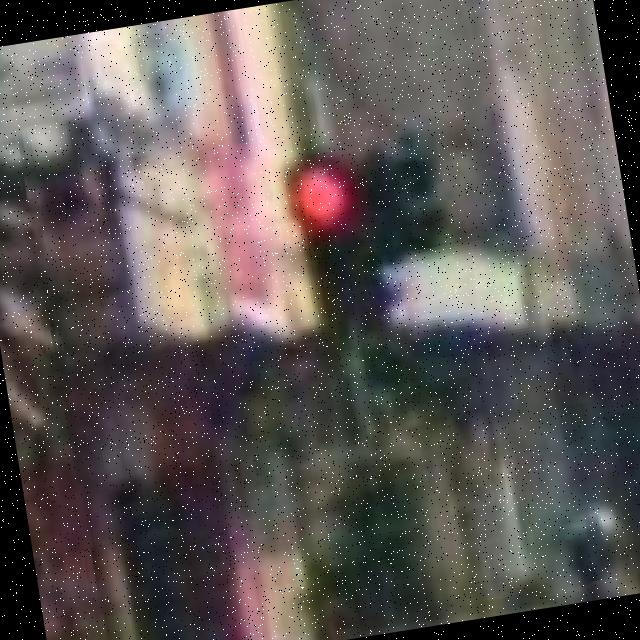Czerwone swiatlo: (284, 144, 389, 346)
